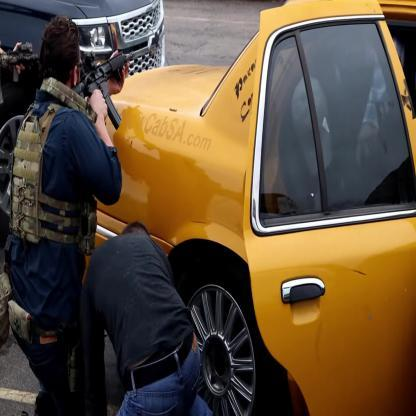Gun: (66, 21, 147, 150)
